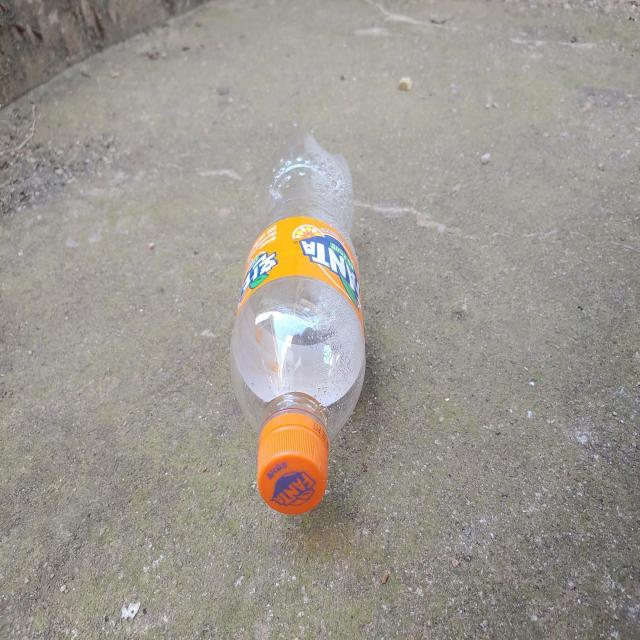plastic: (230, 132, 366, 515)
